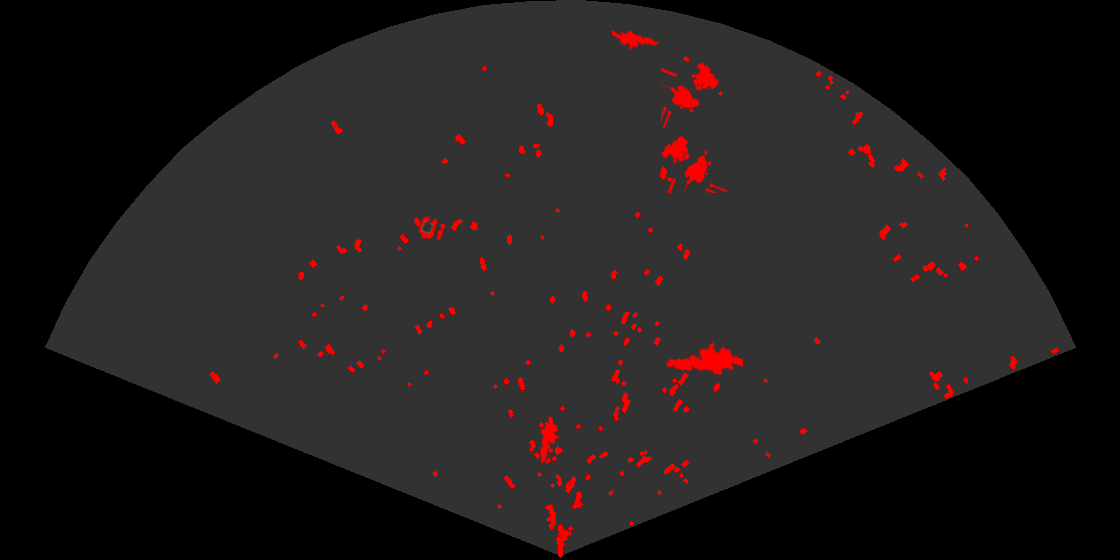ball: (417, 214, 447, 242)
cage: (661, 61, 721, 128), (660, 134, 727, 193)
frogman: (664, 341, 743, 377), (538, 417, 561, 463), (612, 29, 660, 51)
